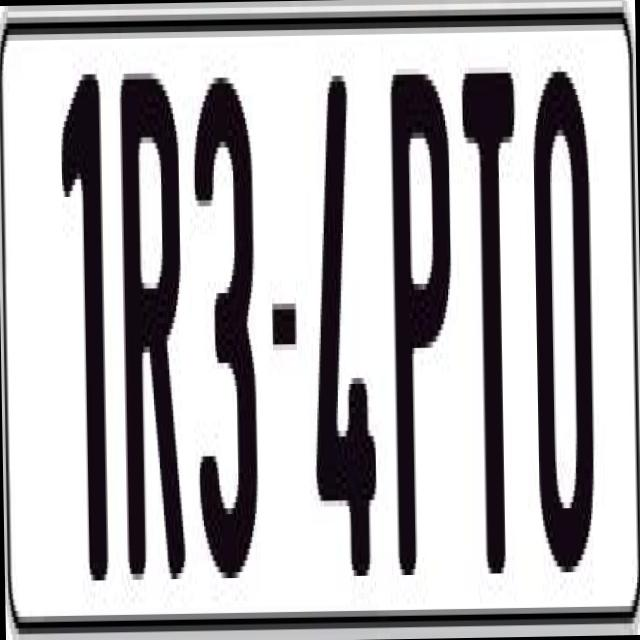0: (532, 59, 596, 578)
1: (59, 73, 108, 610)
3: (188, 65, 258, 578)
4: (304, 63, 372, 593)
P: (388, 61, 460, 563)
R: (117, 66, 190, 597)
T: (458, 60, 528, 590)
